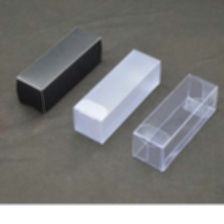plastic_box: (126, 68, 223, 177), (67, 43, 167, 148), (10, 21, 107, 119)
